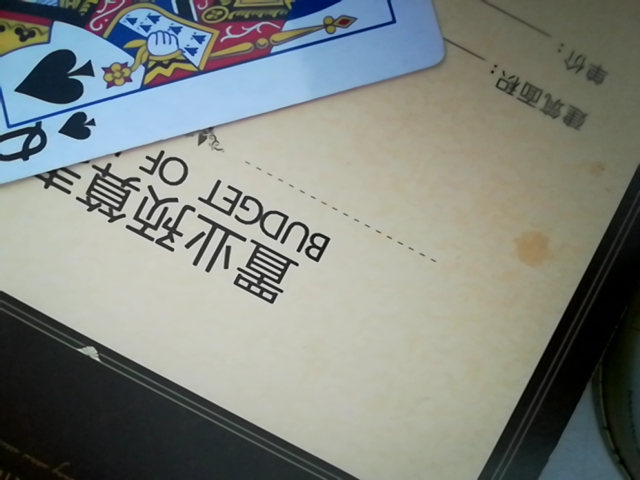ht q: (0, 1, 454, 191)
